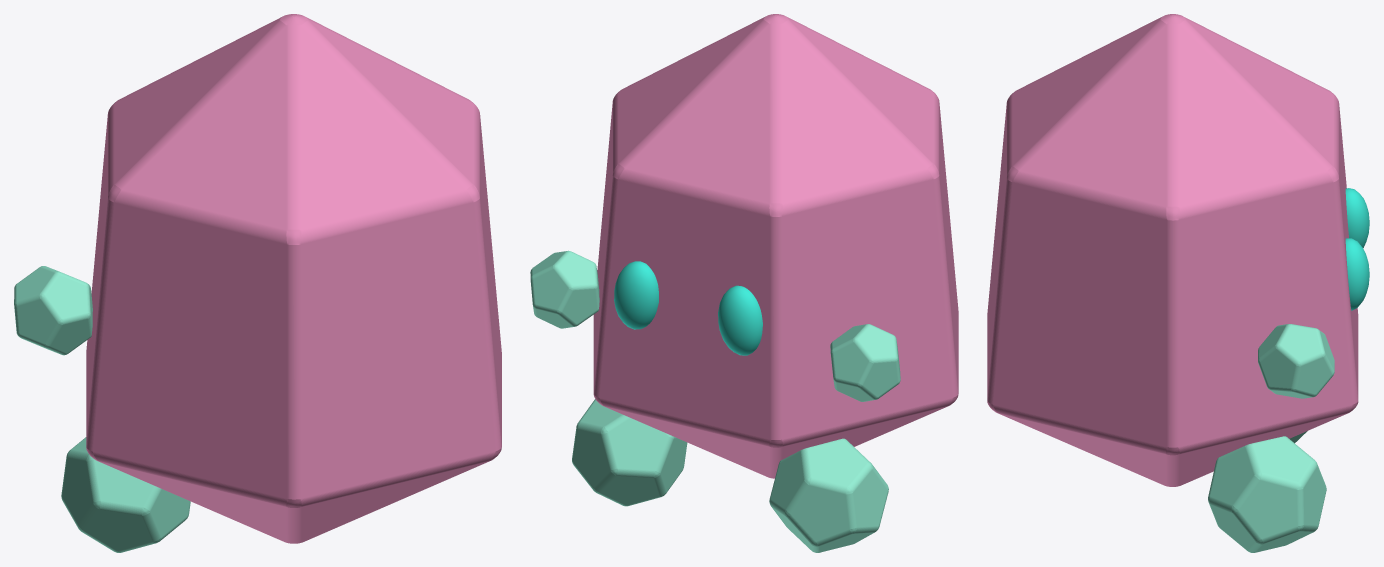
The model's file is Claymore-Mascot-original-noAnim.glb.
3 views of the same model, side by side, from view 1: azimuth 30°, elevation 25°; view 2: azimuth 150°, elevation 25°; view 3: azimuth 270°, elevation 25° (orthographic). The views are drawn at different scales.
Visible parts, largest first — view 1: Body.003, Right Feet.008, RightHand.008; view 2: Body.003, Right Feet.008, Left Feet.008, RightHand.008, LeftHand.008, Right Eye.008, Left Eye.008; view 3: Body.003, Left Feet.008, LeftHand.008, Left Eye.008, Right Eye.008.
Part boxes in pixels (box(x1,y1,x2,y2)): Body.003: box(86, 14, 501, 543); Right Feet.008: box(61, 437, 190, 552); RightHand.008: box(14, 266, 92, 355); Body.003: box(593, 14, 958, 478); Right Feet.008: box(769, 438, 888, 552); Left Feet.008: box(572, 399, 687, 506); RightHand.008: box(830, 324, 900, 401); LeftHand.008: box(530, 250, 599, 328); Right Eye.008: box(718, 285, 762, 355); Left Eye.008: box(614, 261, 658, 329); Body.003: box(987, 14, 1358, 486); Left Feet.008: box(1208, 436, 1326, 552); LeftHand.008: box(1258, 324, 1334, 398); Left Eye.008: box(1345, 238, 1369, 310); Right Eye.008: box(1345, 188, 1369, 247).
Bounding box in the file's own units: 0.5194 × 0.641 × 0.4615.
